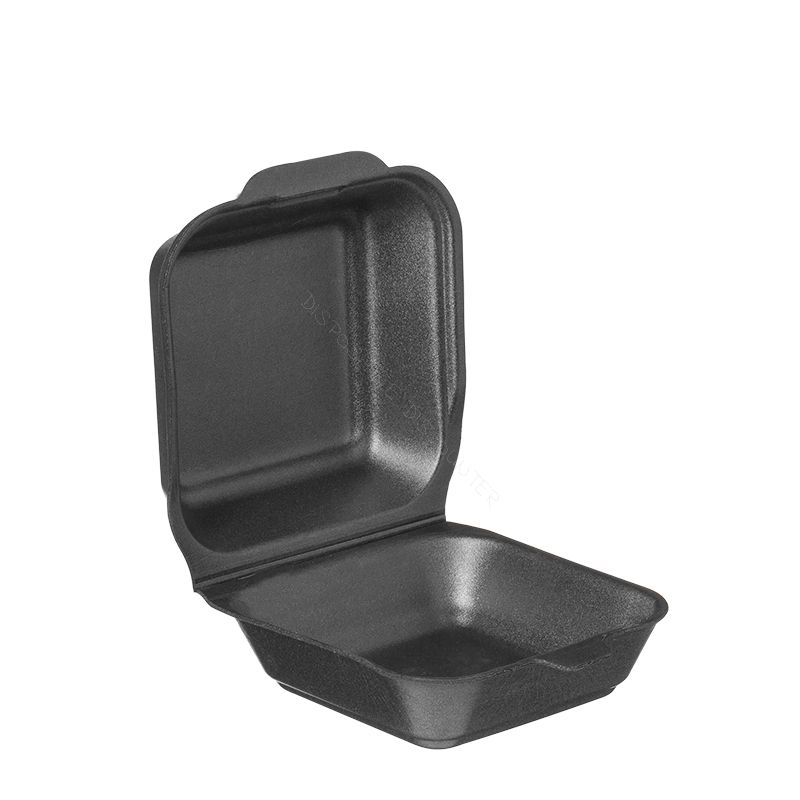Foam Box: (141, 143, 679, 754)
